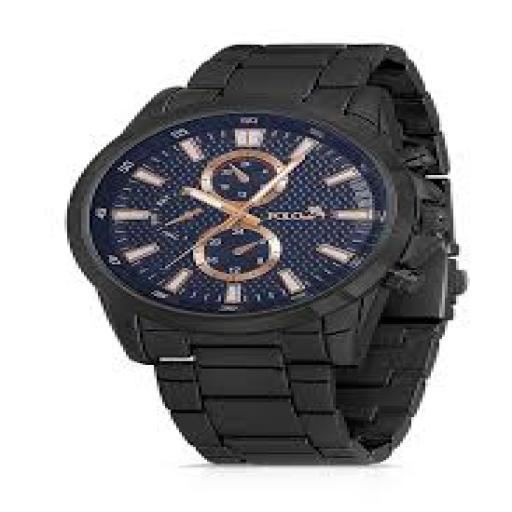KolSaati: (15, 17, 511, 494)
